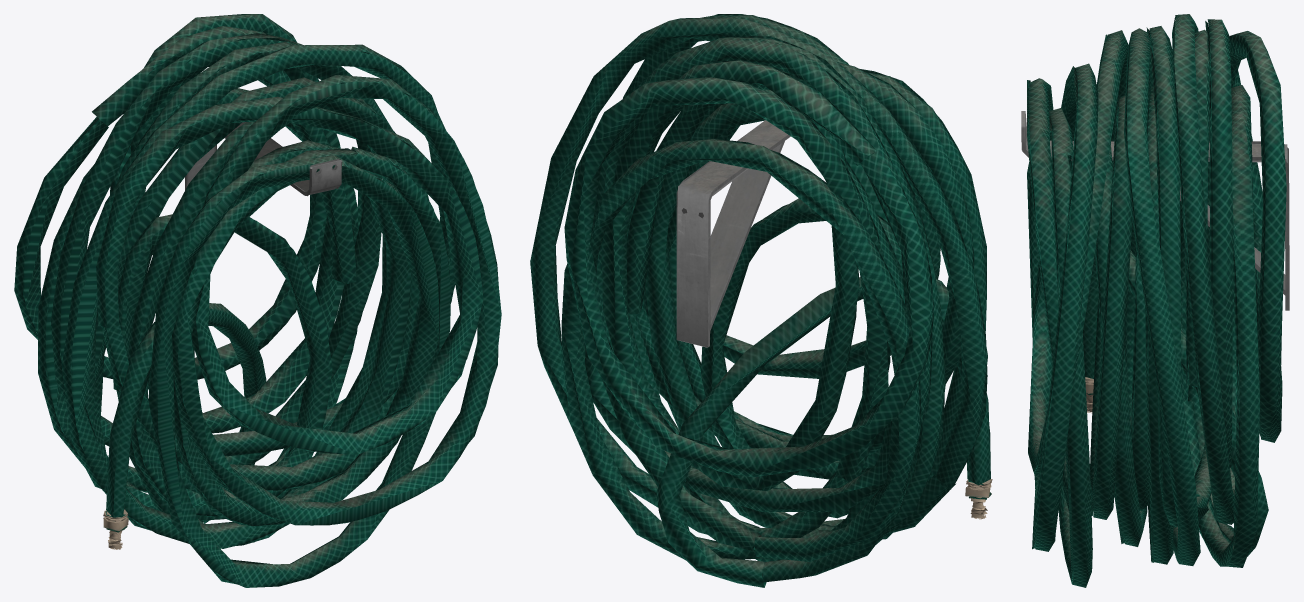
The model's file is HoseReel.gltf.
The picture shows the model from 3 angles, left to right: view 1: azimuth 30°, elevation 25°; view 2: azimuth 150°, elevation 25°; view 3: azimuth 270°, elevation 25°; orthographic projection. The views are drawn at different scales.
Parts seen in each view (by area): view 1: HoseReel; view 2: HoseReel; view 3: HoseReel.
Part boxes in pixels (x1,y1,x2,y2): HoseReel: (14, 14, 501, 587); HoseReel: (530, 14, 992, 587); HoseReel: (1021, 14, 1289, 587).
Size of what is drawn, in the model's own units: 0.4684 by 0.558 by 0.2503.
Materials: 1 (1 with a texture image).
